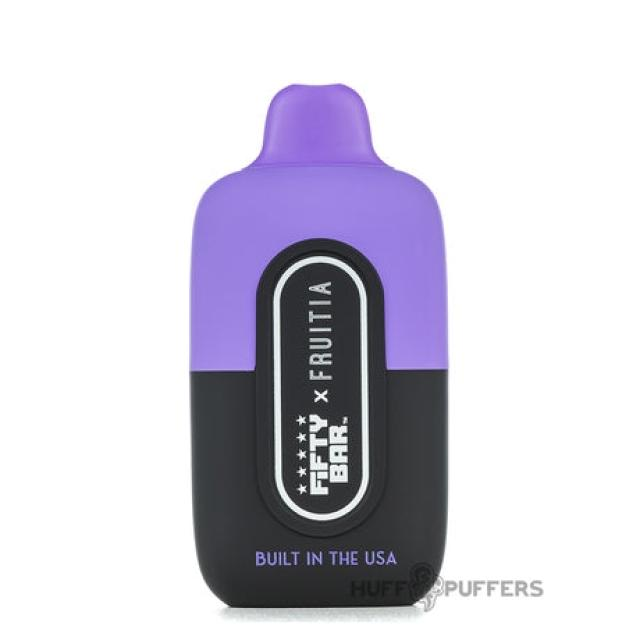Hazard: (188, 81, 451, 608)
